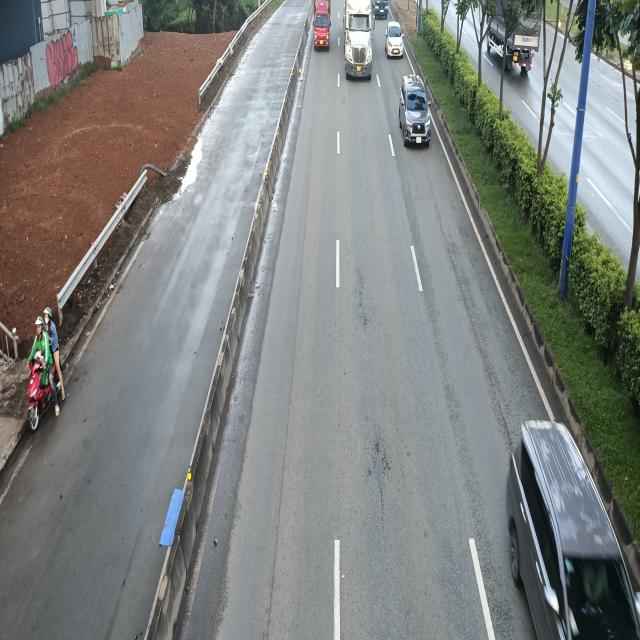car: (399, 75, 432, 148), (385, 21, 404, 57)
container: (343, 0, 376, 78)
truck: (312, 0, 332, 51)
